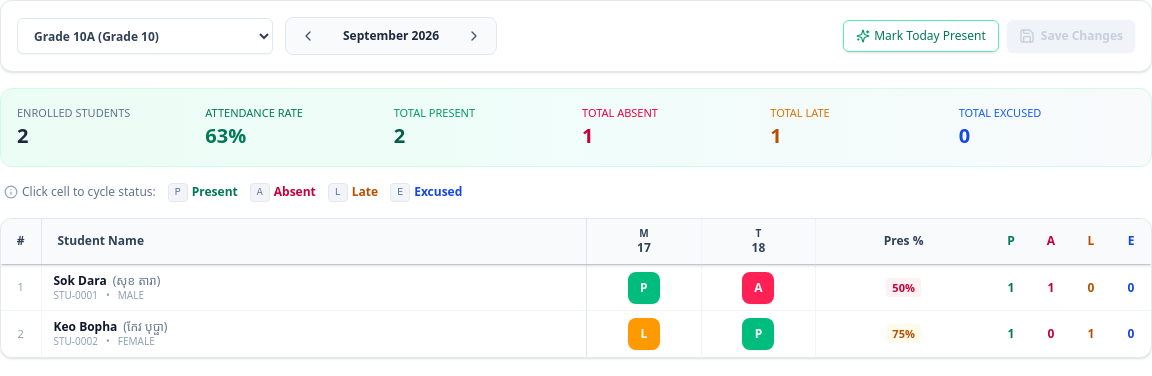
it: StudentAttendanceSheet › cycles cell status on click and enables Save Changes button
Expected: the text "Sok Dara" is shown, 54,272 -> 160,289
Click the button "P" in the row of "Sok".
click(644, 288)  # box 628,272 -> 660,304
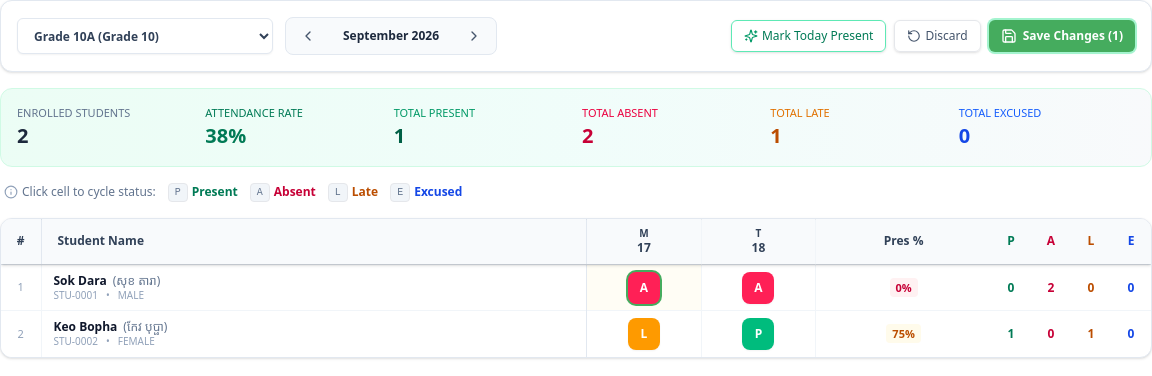
Now the button "Save Changes (1)" is shown, box 989,20 -> 1135,52
